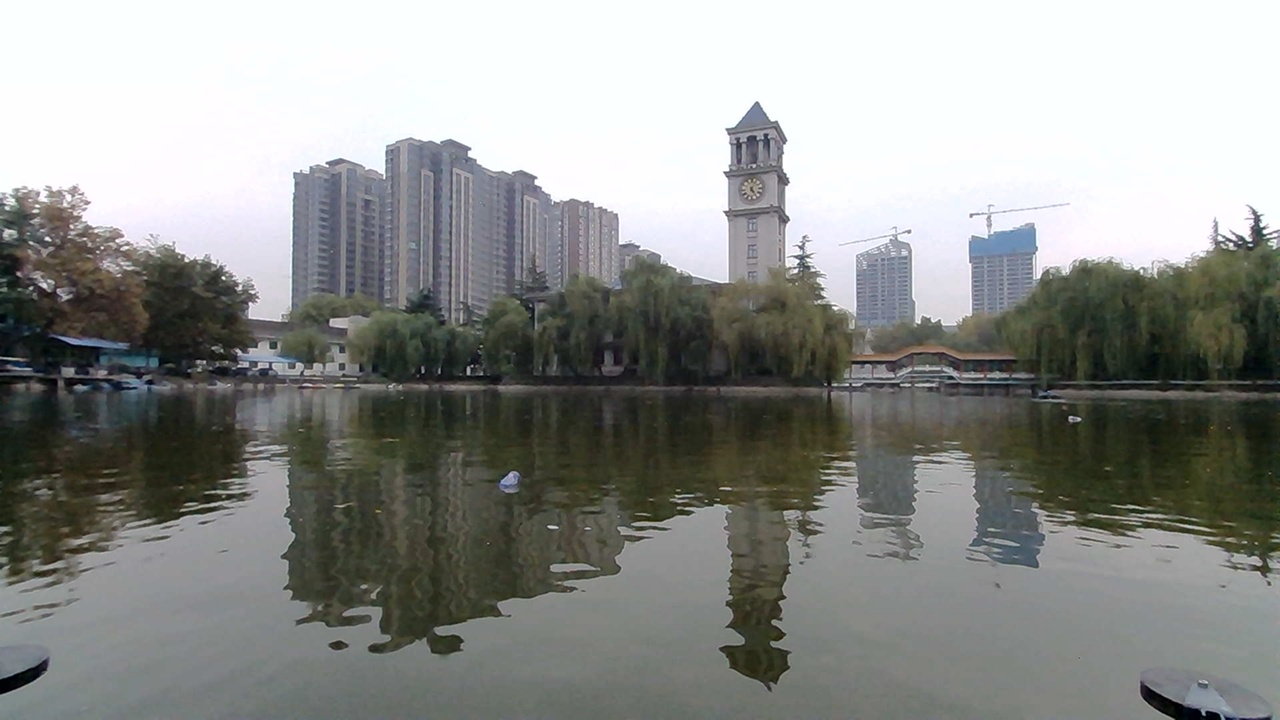bottle: (478, 449, 556, 496), (1042, 404, 1099, 432)
